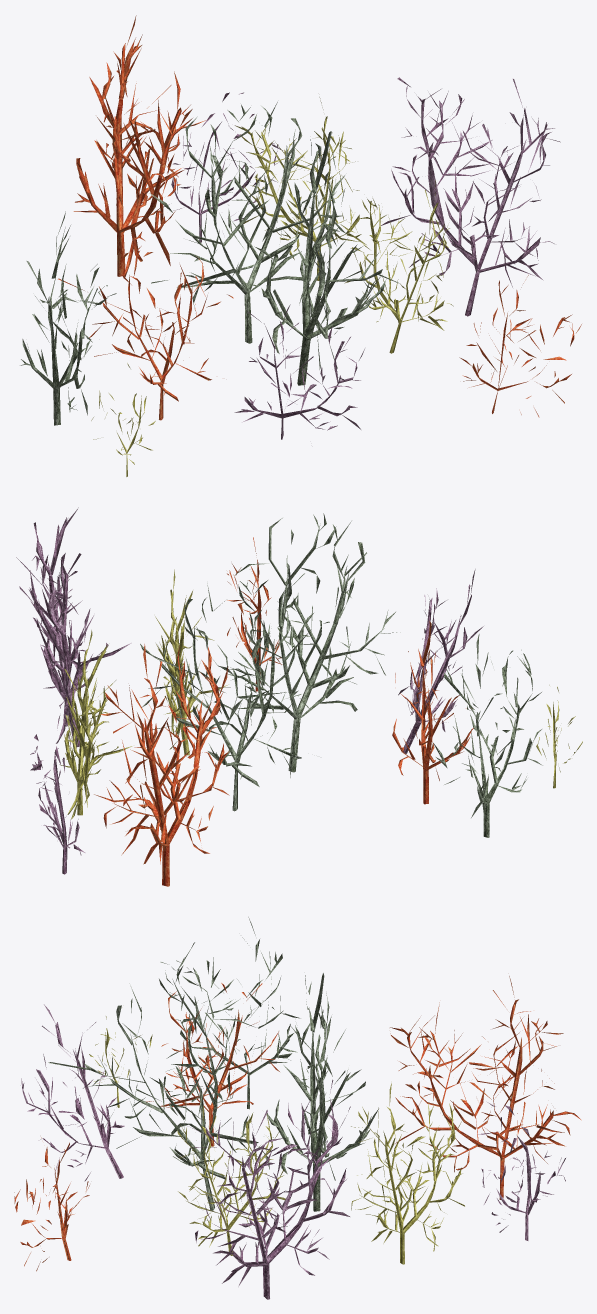
File: fanmed.glb
The picture shows the model from 3 angles, top to bottom: view 1: azimuth 30°, elevation 25°; view 2: azimuth 150°, elevation 25°; view 3: azimuth 270°, elevation 25°; orthographic projection. The views are drawn at different scales.
Parts seen in each view (by area): view 1: LOD0_FanCoralSkin_White_Mat_0, LOD0_FanCoralSkin_Orange_Mat_0, LOD0_FanCoralSkin_Violet_Mat_0, LOD0_FanCoralSkin_Yellow_Mat_0; view 2: LOD0_FanCoralSkin_White_Mat_0, LOD0_FanCoralSkin_Orange_Mat_0, LOD0_FanCoralSkin_Violet_Mat_0, LOD0_FanCoralSkin_Yellow_Mat_0; view 3: LOD0_FanCoralSkin_White_Mat_0, LOD0_FanCoralSkin_Violet_Mat_0, LOD0_FanCoralSkin_Orange_Mat_0, LOD0_FanCoralSkin_Yellow_Mat_0.
Part boxes in pixels (left/top/right/bottom): LOD0_FanCoralSkin_White_Mat_0: left=20, top=102, right=399, bottom=425; LOD0_FanCoralSkin_Orange_Mat_0: left=58, top=15, right=581, bottom=420; LOD0_FanCoralSkin_Violet_Mat_0: left=163, top=77, right=560, bottom=439; LOD0_FanCoralSkin_Yellow_Mat_0: left=91, top=97, right=453, bottom=476; LOD0_FanCoralSkin_White_Mat_0: left=140, top=513, right=542, bottom=837; LOD0_FanCoralSkin_Orange_Mat_0: left=94, top=537, right=473, bottom=886; LOD0_FanCoralSkin_Violet_Mat_0: left=16, top=507, right=483, bottom=874; LOD0_FanCoralSkin_Yellow_Mat_0: left=59, top=569, right=582, bottom=819; LOD0_FanCoralSkin_White_Mat_0: left=48, top=917, right=378, bottom=1211; LOD0_FanCoralSkin_Violet_Mat_0: left=21, top=1004, right=565, bottom=1299; LOD0_FanCoralSkin_Orange_Mat_0: left=14, top=976, right=581, bottom=1271; LOD0_FanCoralSkin_Yellow_Mat_0: left=89, top=1016, right=464, bottom=1264.
Size of the model in its own units: 0.1273 by 0.0613 by 0.13.
4 materials, 4 textured.
